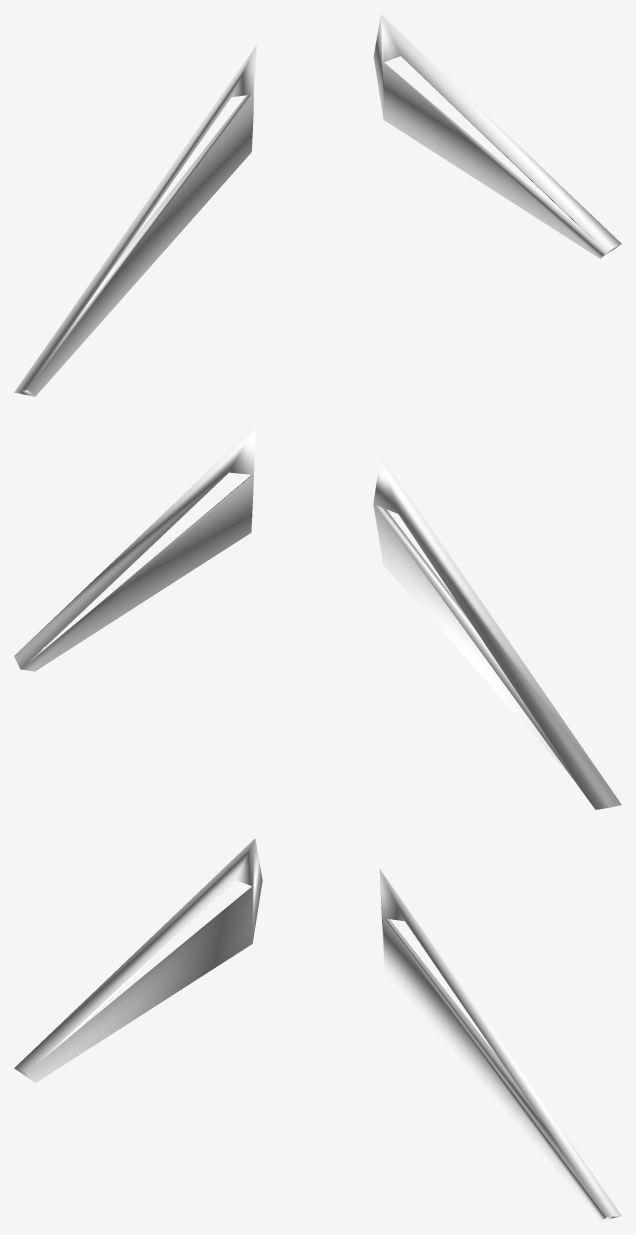
3 renders of one model, top to bottom at view 1: azimuth 30°, elevation 25°; view 2: azimuth 150°, elevation 25°; view 3: azimuth 330°, elevation 25°, orthographic.
Size of the model in its own units: 1.23 by 0.581 by 0.0373.
Materials: 1 (1 with a texture image).
